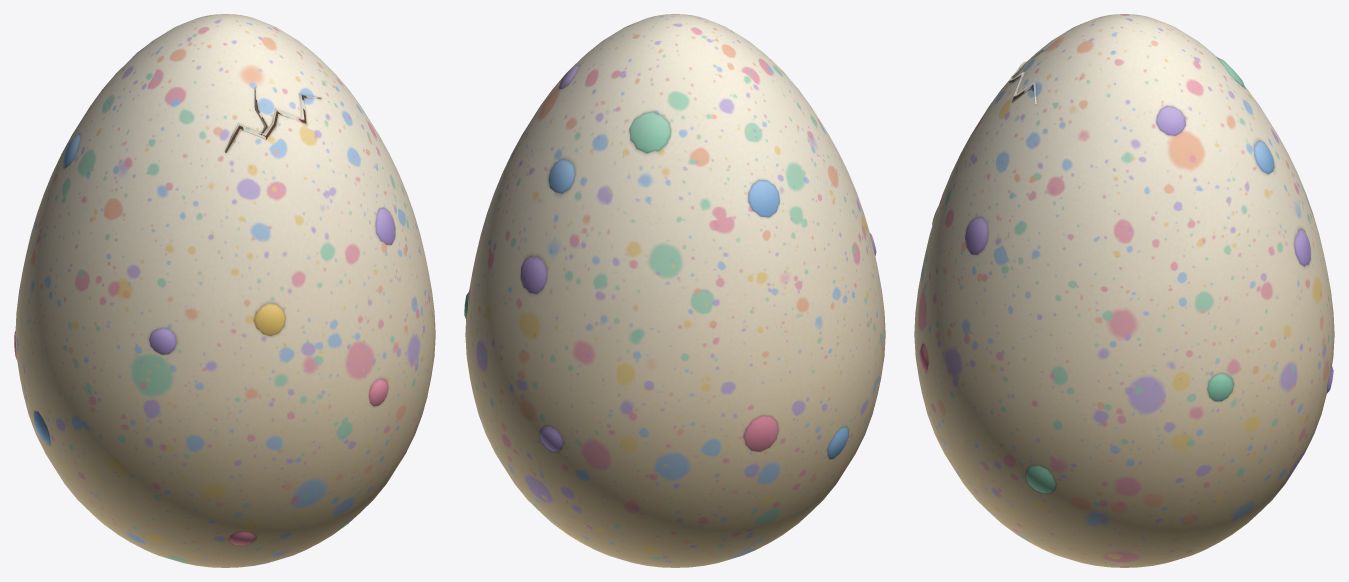
Rendered from meadow_egg.fbx.
The picture shows the model from 3 angles, left to right: view 1: azimuth 30°, elevation 25°; view 2: azimuth 150°, elevation 25°; view 3: azimuth 270°, elevation 25°; orthographic projection.
Parts seen in each view (by area): view 1: MeadowEgg_Body; view 2: MeadowEgg_Body; view 3: MeadowEgg_Body.
Boxes of the visible parts, box(x1,y1,x2,y2) form: MeadowEgg_Body: box(14, 14, 435, 567); MeadowEgg_Body: box(464, 14, 885, 567); MeadowEgg_Body: box(914, 14, 1334, 567).
Size of the model in its own units: 3.28 by 4.48 by 3.28.
Materials: 1 (1 with a texture image).
